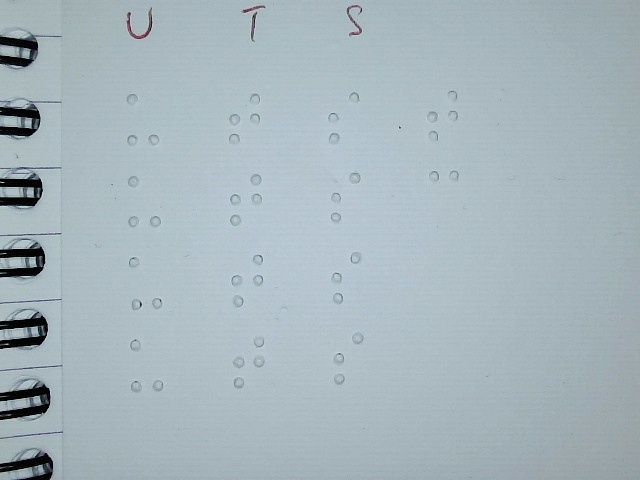S: (326, 89, 361, 145), (328, 169, 363, 225), (329, 249, 364, 305), (331, 330, 366, 386)
T: (227, 90, 262, 146), (229, 171, 264, 227), (230, 252, 265, 308), (231, 334, 266, 390)
U: (128, 336, 165, 393), (126, 172, 162, 228), (127, 254, 163, 310), (125, 91, 160, 147)
